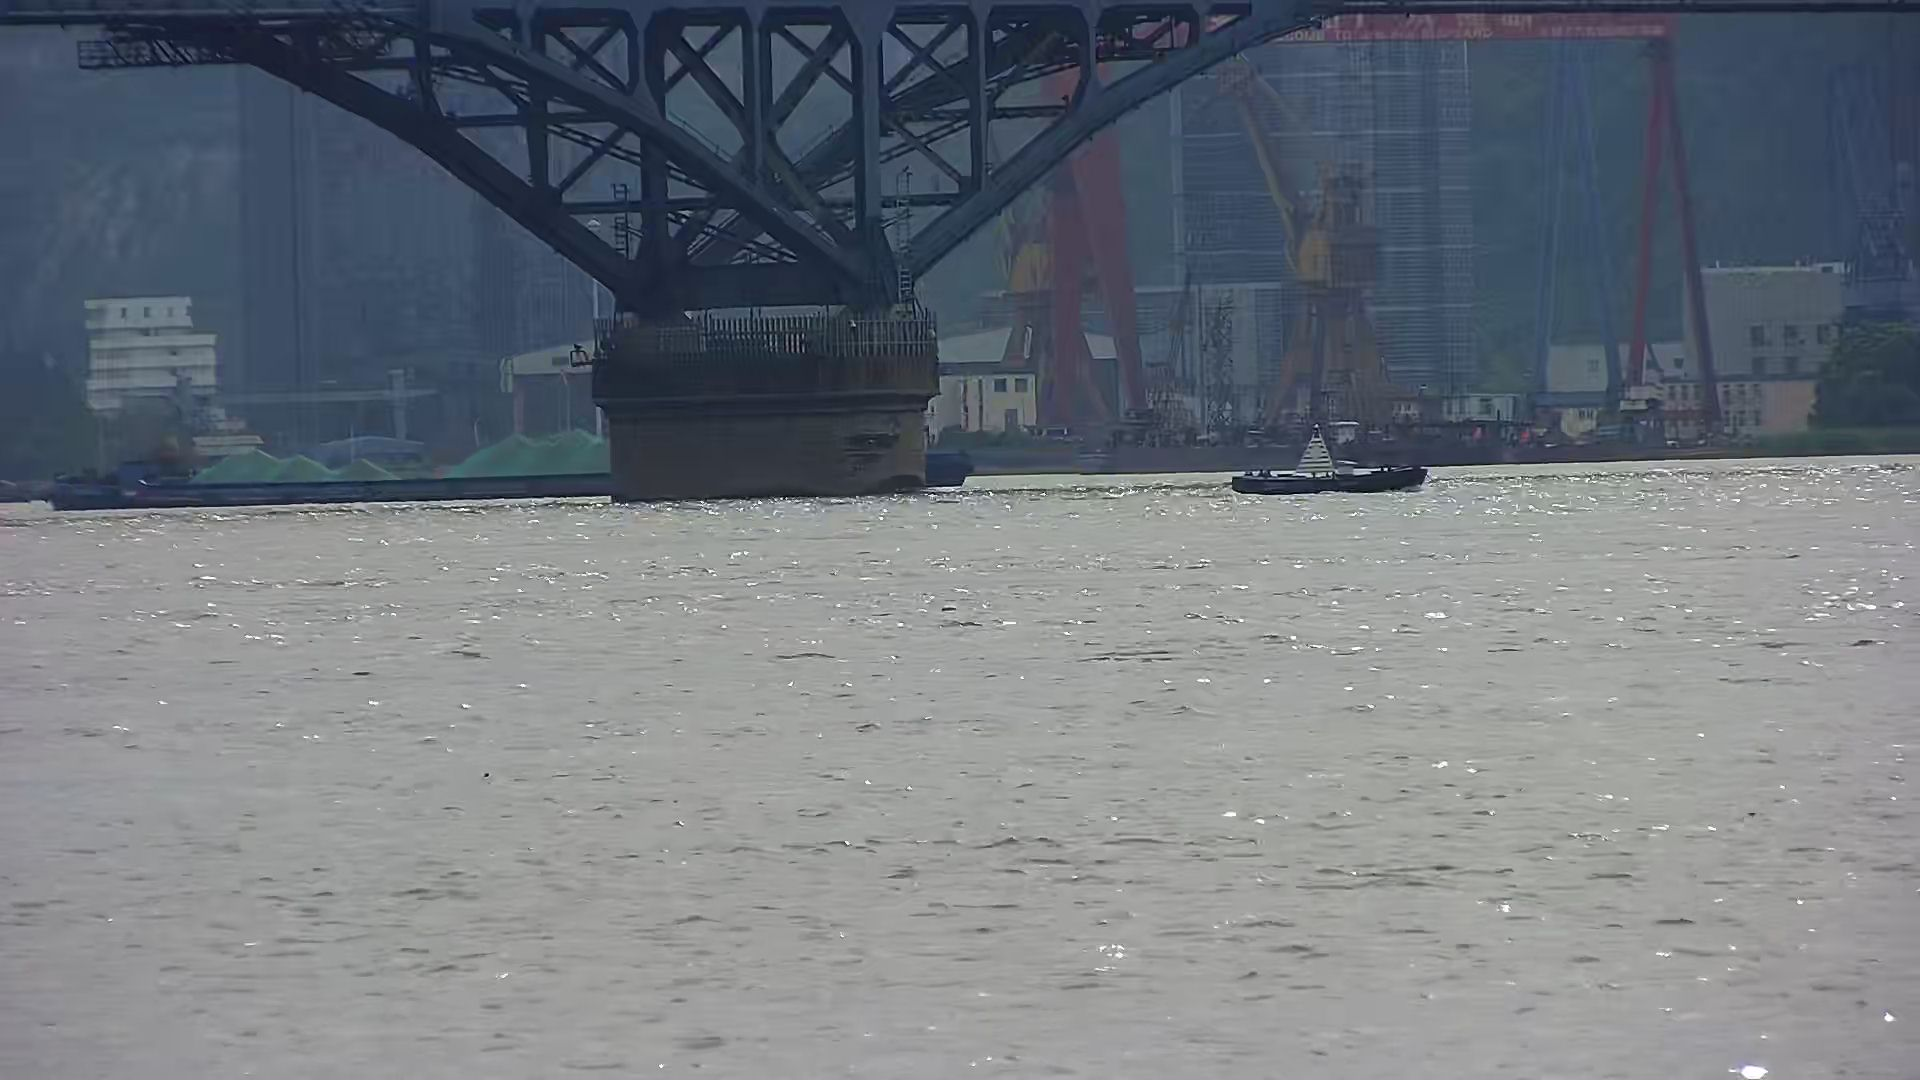boat: (1233, 425, 1431, 493)
bridge: (1, 1, 1335, 502)
ship: (50, 433, 975, 506)
